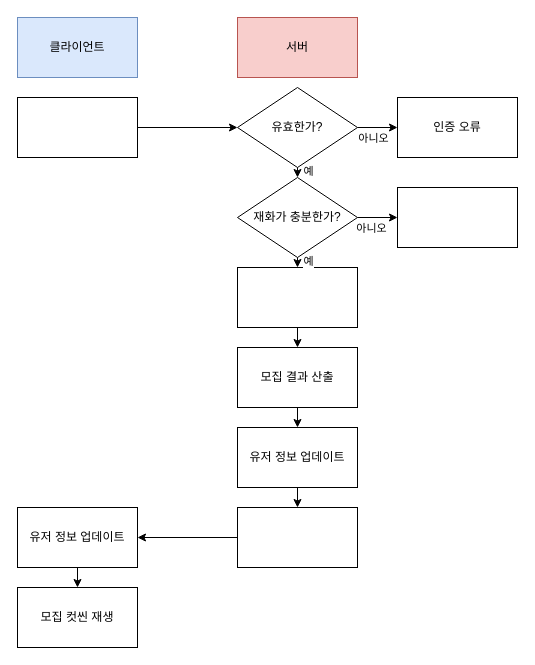
The diagram is 535 pixels wide and 665 high, and some of its shapes have lost their labels. Each missing label, with the centre of its shape:
"모집 결과 응답" goes at point 297,537.
"모집 실패 응답" goes at point 457,217.
"이벤트 코드 검색" goes at point 297,297.
"캐릭터 모집 요청" goes at point 77,127.
